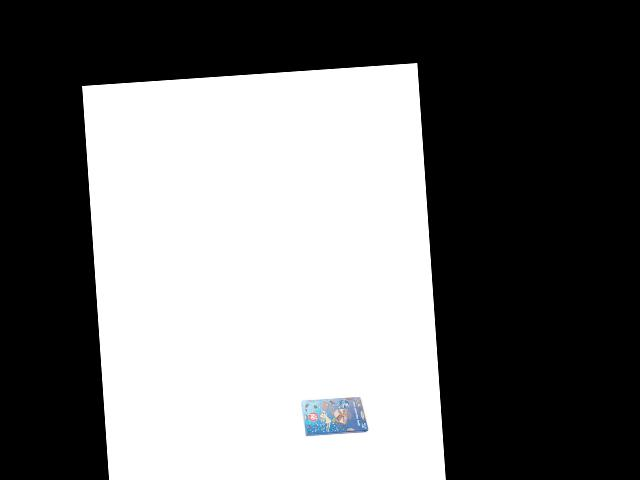chocolate: (299, 391, 369, 441)
